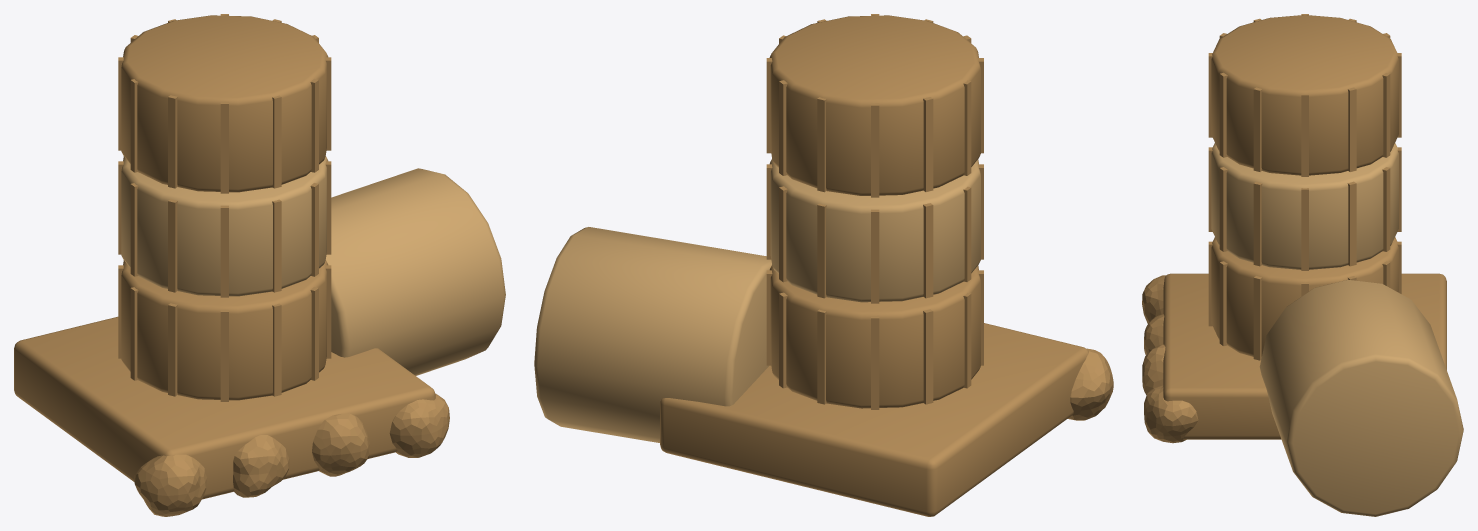
Rendered from pilar-runtuh.glb.
The picture shows the model from 3 angles, left to right: view 1: azimuth 30°, elevation 25°; view 2: azimuth 150°, elevation 25°; view 3: azimuth 270°, elevation 25°; orthographic projection. The views are drawn at different scales.
Parts seen in each view (by area): view 1: Cube, Cylinder.003, Cylinder.002, Cylinder.001, Cylinder, Icosphere, Icosphere.002, Icosphere.003, Icosphere.001, Cube.020, Cube.032, Cube.008 (+12 smaller); view 2: Cube, Cylinder.003, Cylinder.002, Cylinder.001, Cylinder, Icosphere, Cube.006, Cube.018, Cube.030, Cube.029, Cube.016, Cube.017 (+9 smaller); view 3: Cylinder.003, Cylinder.002, Cylinder.001, Cube, Cylinder, Icosphere.003, Icosphere.002, Icosphere, Cube.024, Cube.036, Cube.014, Cube.026 (+9 smaller).
Part boxes in pixels (<box>): Cube: <box>14,316,435,499</box>; Cylinder.003: <box>325,168,505,375</box>; Cylinder.002: <box>121,15,328,192</box>; Cylinder.001: <box>121,156,328,296</box>; Cylinder: <box>121,260,328,400</box>; Icosphere: <box>134,454,207,516</box>; Icosphere.002: <box>312,413,370,476</box>; Icosphere.003: <box>389,393,449,457</box>; Icosphere.001: <box>233,435,289,497</box>; Cube.020: <box>168,199,177,292</box>; Cube.032: <box>168,95,177,188</box>; Cube.008: <box>168,303,177,396</box>; Cube: <box>660,323,1088,516</box>; Cylinder.003: <box>534,227,771,442</box>; Cylinder.002: <box>769,15,980,195</box>; Cylinder.001: <box>769,159,980,302</box>; Cylinder: <box>769,265,980,408</box>; Icosphere: <box>1067,348,1113,420</box>; Cube.006: <box>923,309,933,404</box>; Cube.018: <box>923,203,933,298</box>; Cube.030: <box>923,97,933,191</box>; Cube.029: <box>871,103,879,197</box>; Cube.016: <box>817,203,826,298</box>; Cube.017: <box>871,209,879,303</box>; Cylinder.003: <box>1259,279,1463,516</box>; Cylinder.002: <box>1211,15,1398,175</box>; Cylinder.001: <box>1211,143,1398,269</box>; Cube: <box>1163,273,1446,439</box>; Cylinder: <box>1211,237,1398,356</box>; Icosphere.003: <box>1144,385,1198,443</box>; Icosphere.002: <box>1142,344,1165,394</box>; Icosphere: <box>1142,275,1165,323</box>; Cube.024: <box>1253,181,1262,266</box>; Cube.036: <box>1253,87,1262,171</box>; Cube.014: <box>1347,181,1356,266</box>; Cube.026: <box>1347,87,1356,171</box>.
Size of the model in its own units: 4.76 by 4.1 by 3.4.
